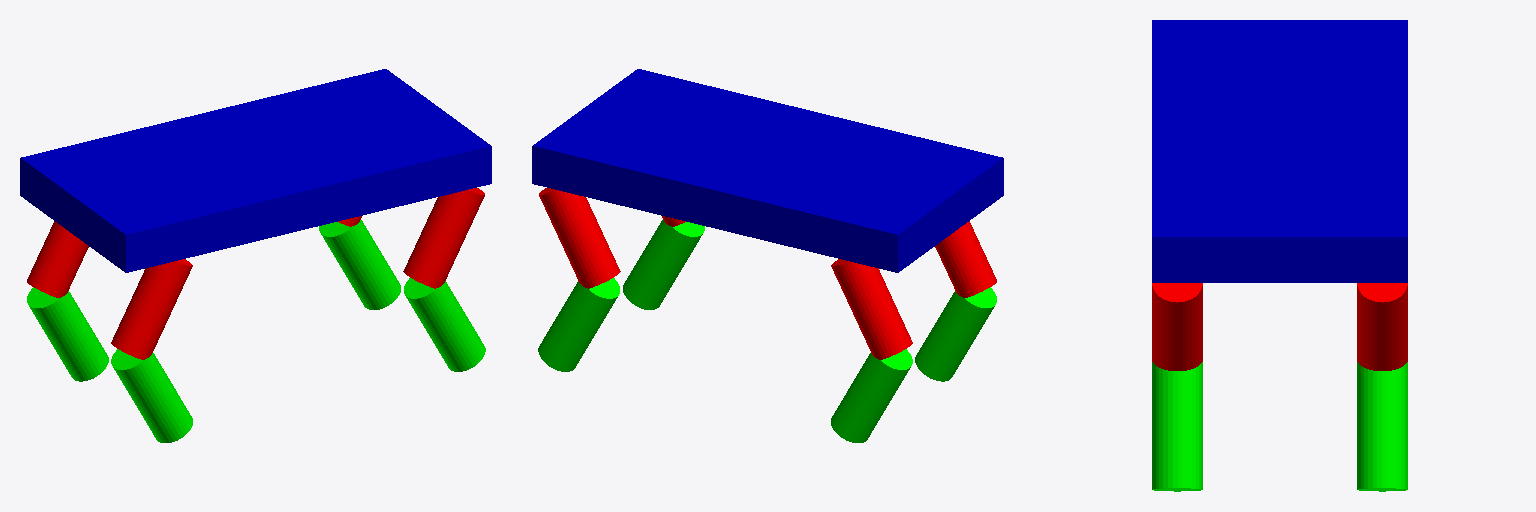
The robot description file, URDF, robot "quadrobot":
<robot name="quadrobot">
    <material name="blue">
        <color rgba="0.0 0.0 0.8 1.0"/>
    </material>
    <material name="black">
        <color rgba="0.0 0.0 0.0 1.0"/>
    </material>
    <material name="white">
        <color rgba="1.0 1.0 1.0 1.0"/>
    </material>

    <link name="body">
        <inertial>
            <origin xyz="1.0 0.0 15.0" rpy="0.0 0.0 0.0"/>
            <mass value="1000000"/>
            <inertia ixx="0.0" ixy="0.0" ixz="0.0" iyy="0.0" iyz="0.0" izz="0.0"/>
        </inertial>
        
        <visual>
            <origin xyz="0.0 0.0 0.0" rpy="0.0 0.0 0.0"/>
            <geometry>
                <box size="2.0 1.0 0.2"/>
            </geometry>
            <material name="blue"/>
        </visual>
    </link>

    <link name="leg11">
        <visual>
            <geometry>
                <cylinder radius="0.1" length="0.5"/>
            </geometry>
            <material name="red">
                <color rgba="1.0 0.0 0.0 1.0"/>
            </material>
        </visual>
    </link>

    <joint name="leg'11" type="revolute">
        <origin xyz="0.8 0.4 -0.35" rpy="0.0 0.5 0.0"/>
        <parent link="body"/>
        <child link="leg11"/>
        <axis xyz="0.0 0.0 0.0"/>
        <limit lower="0.0" upper="0.0" effort="0.0" velocity="0.0"/>
    </joint>

	<link name="leg12">
        <visual>
            <geometry>
                <cylinder radius="0.1" length="0.5"/>
            </geometry>
            <material name="green">
                <color rgba="0.0 1.0 0.0 1.0"/>
            </material>
        </visual>
    </link>

    <joint name="leg'12" type="revolute">
        <origin xyz="0.22 0.0 -0.4" rpy="0.0 -1.0 0.0"/>
        <parent link="leg11"/>
        <child link="leg12"/>
        <axis xyz="0.0 0.0 0.0"/>
        <limit lower="0.0" upper="0.0" effort="0.0" velocity="0.0"/>
    </joint>

	<link name="leg21">
        <visual>
            <geometry>
                <cylinder radius="0.1" length="0.5"/>
            </geometry>
            <material name="red">
                <color rgba="1.0 0.0 0.0 1.0"/>
            </material>
        </visual>
    </link>

    <joint name="leg'21" type="revolute">
        <origin xyz="-0.8 0.4 -0.35" rpy="0.0 0.5 0.0"/>
        <parent link="body"/>
        <child link="leg21"/>
        <axis xyz="0.0 0.0 0.0"/>
        <limit lower="0.0" upper="0.0" effort="0.0" velocity="0.0"/>
    </joint>

	<link name="leg22">
        <visual>
            <geometry>
                <cylinder radius="0.1" length="0.5"/>
            </geometry>
            <material name="green">
                <color rgba="0.0 1.0 0.0 1.0"/>
            </material>
        </visual>
    </link>

    <joint name="leg'22" type="revolute">
        <origin xyz="0.22 0.0 -0.4" rpy="0.0 -1.0 0.0"/>
        <parent link="leg21"/>
        <child link="leg22"/>
        <axis xyz="0.0 0.0 0.0"/>
        <limit lower="0.0" upper="0.0" effort="0.0" velocity="0.0"/>
    </joint>

	<link name="leg31">
        <visual>
            <geometry>
                <cylinder radius="0.1" length="0.5"/>
            </geometry>
            <material name="red">
                <color rgba="1.0 0.0 0.0 1.0"/>
            </material>
        </visual>
    </link>

    <joint name="leg'31" type="revolute">
        <origin xyz="0.8 -0.4 -0.35" rpy="0.0 0.5 0.0"/>
        <parent link="body"/>
        <child link="leg31"/>
        <axis xyz="0.0 0.0 0.0"/>
        <limit lower="0.0" upper="0.0" effort="0.0" velocity="0.0"/>
    </joint>

	<link name="leg32">
        <visual>
            <geometry>
                <cylinder radius="0.1" length="0.5"/>
            </geometry>
            <material name="green">
                <color rgba="0.0 1.0 0.0 1.0"/>
            </material>
        </visual>
    </link>

    <joint name="leg'32" type="revolute">
        <origin xyz="0.22 0.0 -0.4" rpy="0.0 -1.0 0.0"/>
        <parent link="leg31"/>
        <child link="leg32"/>
        <axis xyz="0.0 0.0 0.0"/>
        <limit lower="0.0" upper="0.0" effort="0.0" velocity="0.0"/>
    </joint>

	<link name="leg41">
        <visual>
            <geometry>
                <cylinder radius="0.1" length="0.5"/>
            </geometry>
            <material name="red">
                <color rgba="1.0 0.0 0.0 1.0"/>
            </material>
        </visual>
    </link>

    <joint name="leg'41" type="revolute">
        <origin xyz="-0.8 -0.4 -0.35" rpy="0.0 0.5 0.0"/>
        <parent link="body"/>
        <child link="leg41"/>
        <axis xyz="0.0 0.0 0.0"/>
        <limit lower="0.0" upper="0.0" effort="0.0" velocity="0.0"/>
    </joint>

	<link name="leg42">
        <visual>
            <geometry>
                <cylinder radius="0.1" length="0.5"/>
            </geometry>
            <material name="green">
                <color rgba="0.0 1.0 0.0 1.0"/>
            </material>
        </visual>
    </link>

    <joint name="leg'42" type="revolute">
        <origin xyz="0.22 0.0 -0.4" rpy="0.0 -1.0 0.0"/>
        <parent link="leg41"/>
        <child link="leg42"/>
        <axis xyz="0.0 0.0 0.0"/>
        <limit lower="0.0" upper="0.0" effort="0.0" velocity="0.0"/>
    </joint>
</robot>

--- Render facts (derived) ---
3 views of the same robot in one strip: view 1: azimuth 30°, elevation 25°; view 2: azimuth 150°, elevation 25°; view 3: azimuth 270°, elevation 25° (orthographic).
Model quadrobot with 9 links and 8 joints (8 revolute), rooted at body, posed all joints at 0.
Visible links, largest first — view 1: body, leg31, leg41, leg22, leg32, leg42, leg12, leg21; view 2: body, leg11, leg21, leg42, leg12, leg22, leg32, leg41; view 3: body, leg12, leg32, leg11, leg31.
Boxes of the visible links, x1,y1,x2,y2 form: body: (20, 69, 491, 272); leg31: (403, 188, 484, 288); leg41: (111, 259, 192, 359); leg22: (27, 287, 108, 381); leg32: (404, 278, 485, 371); leg42: (111, 349, 192, 442); leg12: (319, 220, 400, 309); leg21: (27, 221, 88, 297); body: (532, 69, 1003, 272); leg11: (539, 188, 620, 288); leg21: (831, 259, 912, 359); leg42: (915, 287, 996, 381); leg12: (538, 278, 619, 371); leg22: (831, 349, 912, 442); leg32: (623, 220, 704, 309); leg41: (935, 221, 996, 297); body: (1152, 20, 1407, 282); leg12: (1357, 362, 1407, 491); leg32: (1152, 362, 1202, 491); leg11: (1357, 283, 1407, 370); leg31: (1152, 283, 1202, 370).
Bounding box of the posed robot: 2.02 × 1 × 1.17 m (x, y, z).
Geometry: primitives only (box / cylinder / sphere), no mesh files.